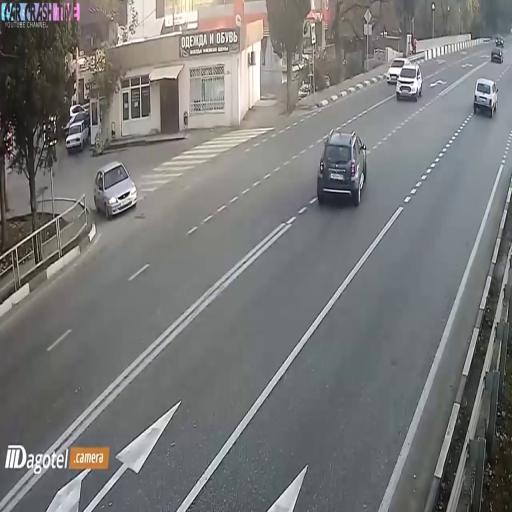小汽车: (318, 126, 368, 205), (89, 157, 138, 222), (473, 73, 499, 121), (394, 60, 422, 104), (62, 113, 91, 155), (489, 42, 505, 63)
